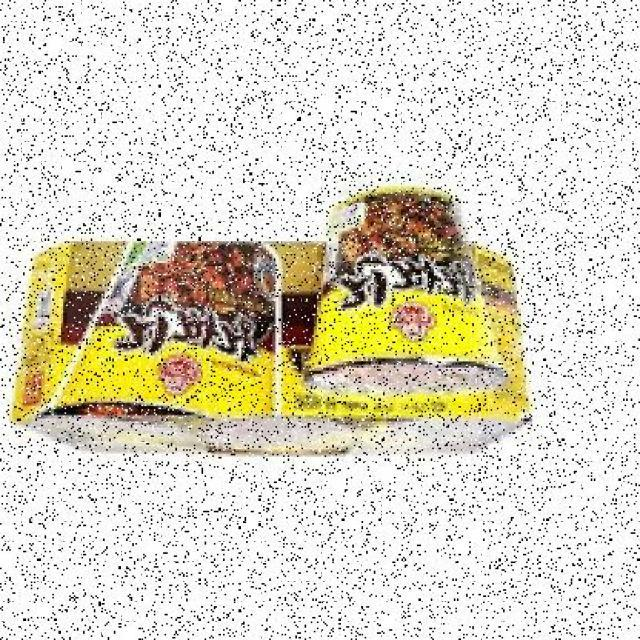Miscellaneous: (296, 178, 516, 412)
